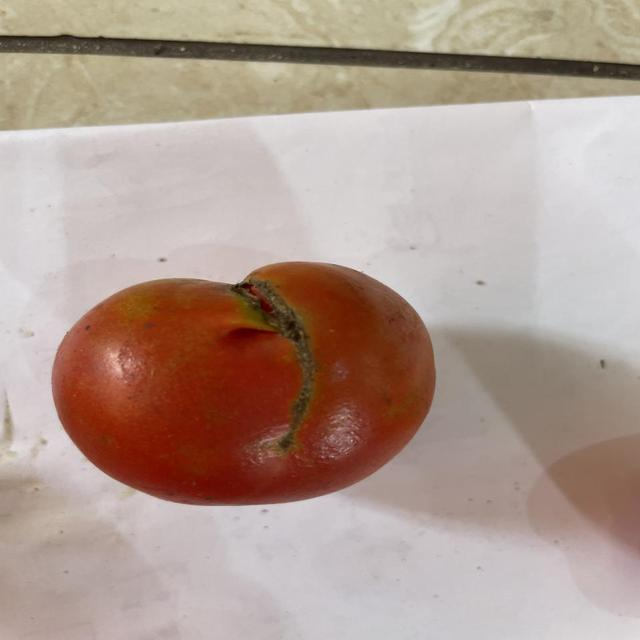Cracking Fruit: (83, 145, 281, 442)
